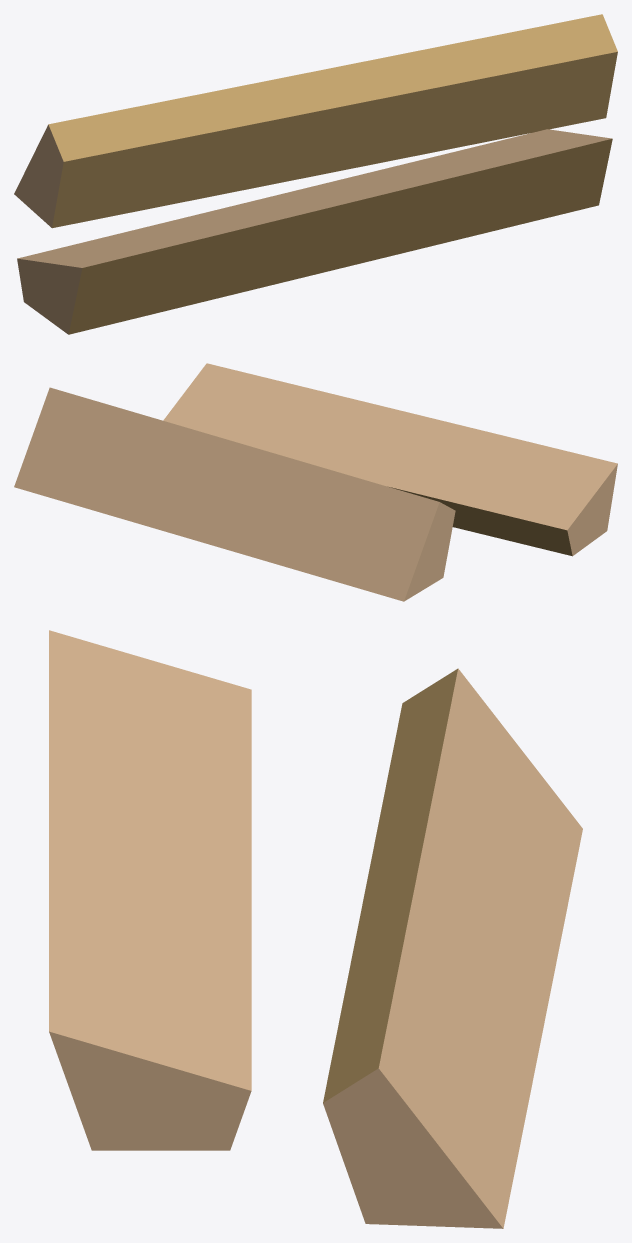
The model's file is Oak_Firewood_06.fbx.
3 renders of one model, top to bottom at view 1: azimuth 30°, elevation 25°; view 2: azimuth 150°, elevation 25°; view 3: azimuth 270°, elevation 25°, orthographic. The views are drawn at different scales.
Visible parts, largest first — view 1: Oak_Firewood_06; view 2: Oak_Firewood_06; view 3: Oak_Firewood_06.
Boxes of the visible parts, x1,y1,x2,y2 form: Oak_Firewood_06: (14, 14, 617, 334); Oak_Firewood_06: (14, 363, 617, 601); Oak_Firewood_06: (49, 630, 582, 1228).
Bounding box in the file's own units: 66.77 × 10.16 × 31.49.
